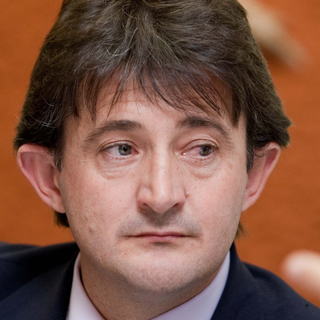eye: (97, 138, 144, 163), (180, 138, 225, 163)
